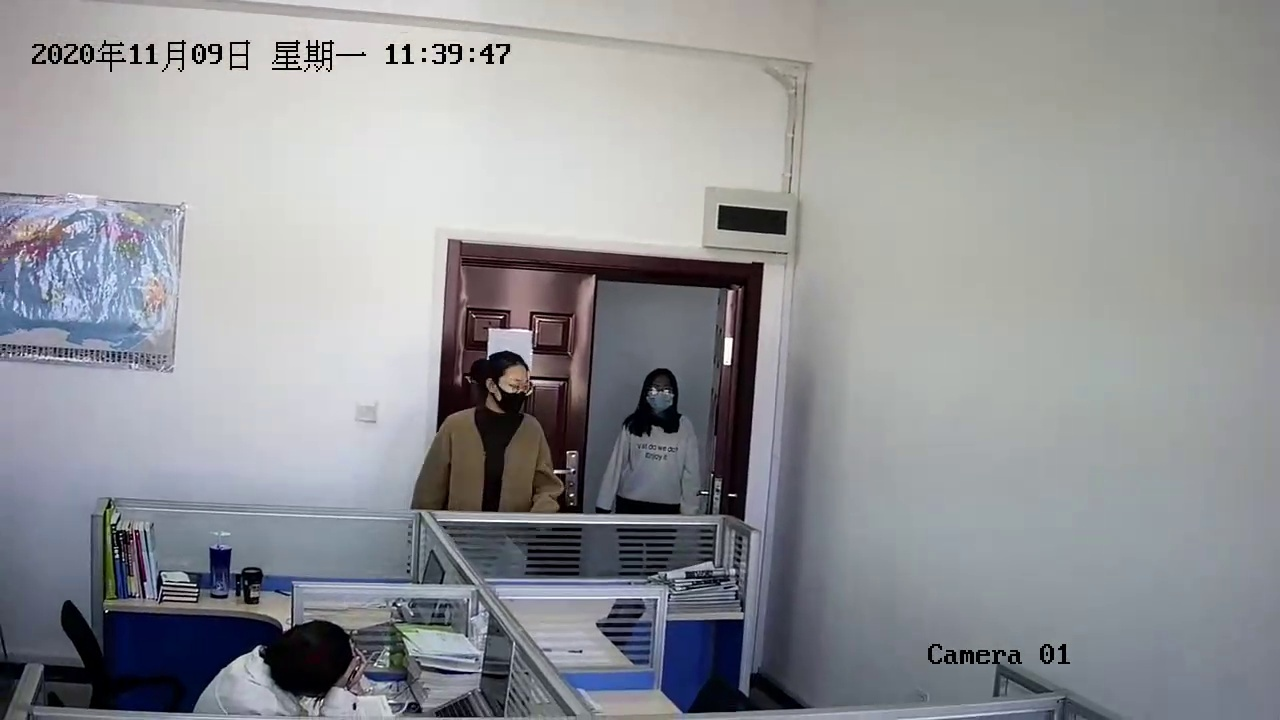mask: (481, 357, 537, 421), (638, 363, 684, 418)
